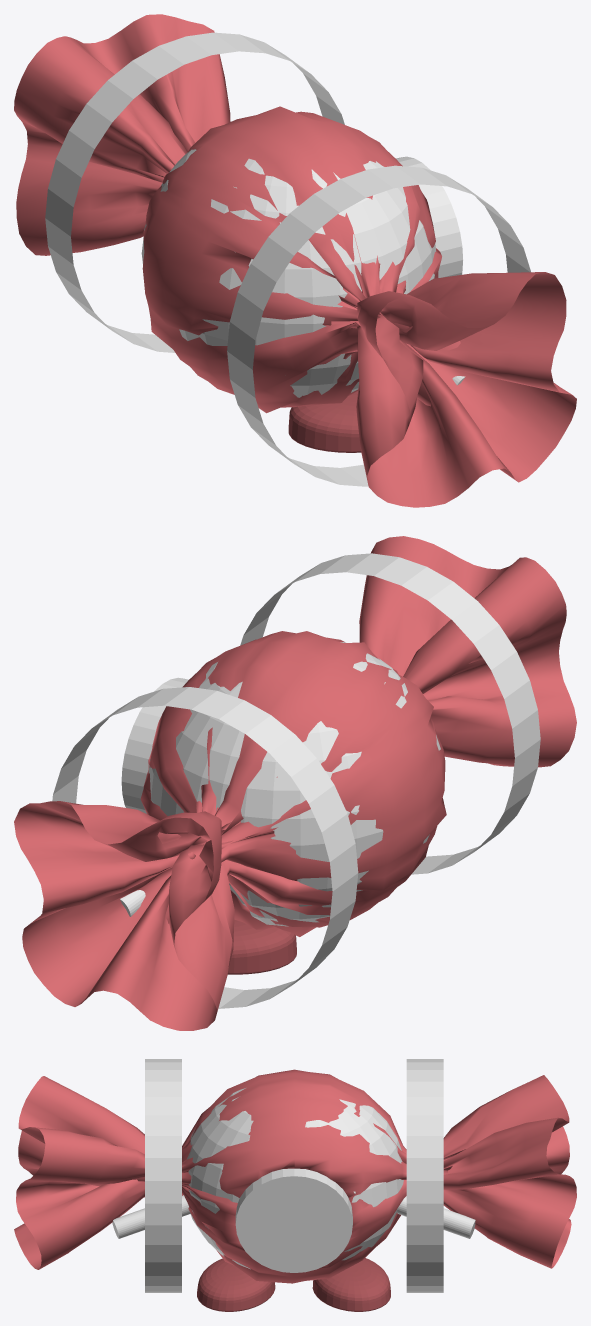
The model's file is candy2.fbx.
3 renders of one model, top to bottom at view 1: azimuth 30°, elevation 25°; view 2: azimuth 150°, elevation 25°; view 3: azimuth 270°, elevation 25°, orthographic. The views are drawn at different scales.
Parts seen in each view (by area): view 1: body, 球体, 柱体.002, 柱体.003, rightfoot, Cylinder.004; view 2: body, 球体, 柱体.003, 柱体.002, leftfoot, Cylinder.004; view 3: body, Cylinder.004, 柱体.003, 柱体.002, 球体, leftfoot, rightfoot, lefthand, righthand.
Part boxes in pixels (box(x1,y1,x2,y2)): body: box(14, 14, 576, 507); 球体: box(141, 149, 435, 397); 柱体.002: box(227, 165, 530, 486); 柱体.003: box(45, 32, 344, 352); rightfoot: box(288, 391, 361, 452); Cylinder.004: box(396, 156, 462, 277); body: box(14, 536, 576, 1030); 球体: box(148, 642, 440, 926); 柱体.003: box(52, 687, 358, 1008); 柱体.002: box(240, 553, 540, 874); leftfoot: box(227, 919, 296, 974); Cylinder.004: box(121, 677, 188, 813); body: box(14, 1069, 576, 1283); Cylinder.004: box(235, 1168, 352, 1272); 柱体.003: box(406, 1059, 443, 1292); 柱体.002: box(145, 1059, 181, 1292); 球体: box(187, 1088, 403, 1269); leftfoot: box(312, 1258, 390, 1311); rightfoot: box(197, 1258, 275, 1311); lefthand: box(397, 1196, 475, 1238); righthand: box(112, 1195, 190, 1238).
Bounding box in the file's own units: 1115 × 1127 × 2682.
